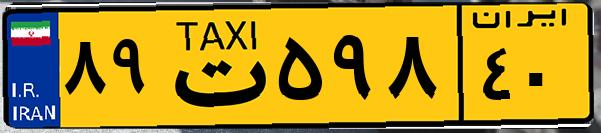0: (525, 38, 570, 115)
4: (475, 38, 525, 113)
5: (270, 28, 330, 110)
8: (385, 28, 445, 110), (57, 26, 110, 100)
9: (330, 28, 385, 110), (110, 28, 158, 98)
ت: (158, 12, 270, 120)
